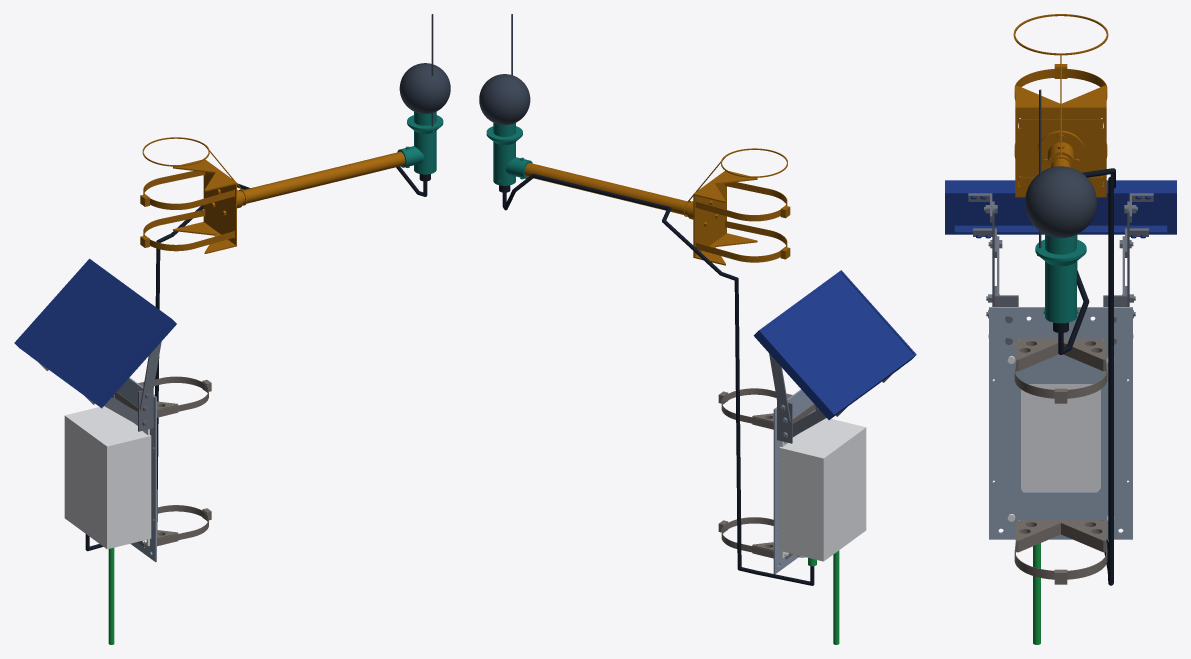
3 renders of one model, left to right at view 1: azimuth 30°, elevation 25°; view 2: azimuth 150°, elevation 25°; view 3: azimuth 270°, elevation 25°, orthographic. The views are drawn at different scales.
Visible parts, largest first — view 1: Solar panel, 6 W, FieldNode enclosure, IP65, Microphone arm and saddle, Foam windscreen and bird spike, Street pole adapter, V-blocks and bands, Microphone head housing, ASA, Panel tilt bracket, FieldNode back plate, Sensor cable, M12, FieldNode power and radio board; view 2: Solar panel, 6 W, FieldNode enclosure, IP65, Microphone arm and saddle, Sensor cable, M12, Foam windscreen and bird spike, Street pole adapter, V-blocks and bands, Microphone head housing, ASA, FieldNode back plate, Panel tilt bracket, FieldNode power and radio board; view 3: FieldNode back plate, Microphone arm and saddle, FieldNode enclosure, IP65, Solar panel, 6 W, Street pole adapter, V-blocks and bands, Foam windscreen and bird spike, Sensor cable, M12, Microphone head housing, ASA, Panel tilt bracket, FieldNode power and radio board.
Boxes of the visible parts, bbox=[...] form: Solar panel, 6 W: bbox=[14, 258, 176, 408]; FieldNode enclosure, IP65: bbox=[64, 406, 151, 549]; Microphone arm and saddle: bbox=[140, 137, 405, 253]; Foam windscreen and bird spike: bbox=[399, 14, 450, 126]; Street pole adapter, V-blocks and bands: bbox=[115, 376, 211, 546]; Microphone head housing, ASA: bbox=[397, 111, 443, 174]; Panel tilt bracket: bbox=[30, 342, 161, 431]; FieldNode back plate: bbox=[115, 377, 156, 562]; Sensor cable, M12: bbox=[85, 166, 430, 551]; FieldNode power and radio board: bbox=[108, 548, 114, 644]; Solar panel, 6 W: bbox=[753, 270, 916, 419]; FieldNode enclosure, IP65: bbox=[779, 418, 866, 561]; Microphone arm and saddle: bbox=[524, 148, 790, 265]; Sensor cable, M12: bbox=[499, 173, 814, 585]; Foam windscreen and bird spike: bbox=[479, 14, 530, 125]; Street pole adapter, V-blocks and bands: bbox=[718, 388, 815, 559]; Microphone head housing, ASA: bbox=[486, 122, 532, 185]; FieldNode back plate: bbox=[773, 389, 815, 574]; Panel tilt bracket: bbox=[769, 353, 900, 443]; FieldNode power and radio board: bbox=[808, 550, 839, 644]; FieldNode back plate: bbox=[989, 307, 1132, 539]; Microphone arm and saddle: bbox=[1013, 14, 1108, 197]; FieldNode enclosure, IP65: bbox=[1007, 339, 1114, 521]; Solar panel, 6 W: bbox=[945, 180, 1176, 238]; Street pole adapter, V-blocks and bands: bbox=[1014, 338, 1107, 584]; Foam windscreen and bird spike: bbox=[1025, 89, 1096, 248]; Sensor cable, M12: bbox=[1053, 168, 1115, 585]; Microphone head housing, ASA: bbox=[1035, 234, 1086, 323]; Panel tilt bracket: bbox=[968, 193, 1153, 344]; FieldNode power and radio board: bbox=[1033, 543, 1040, 644].
Size of the model in its own units: 0.798 by 1.07 by 0.29.
